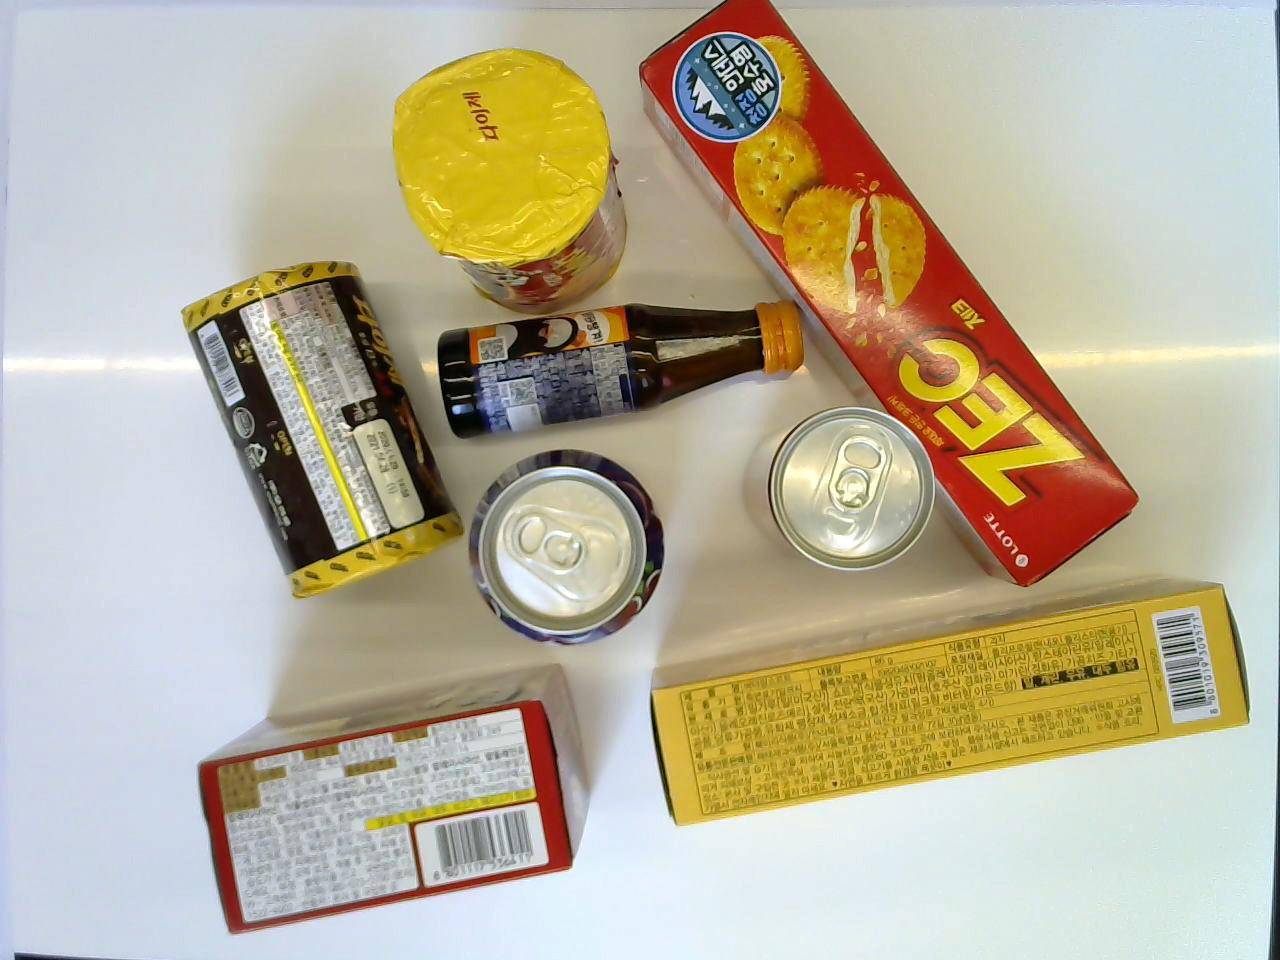buttering: (644, 575, 1250, 831)
chocopie: (197, 659, 596, 937)
coke: (742, 408, 936, 574)
diget_choco: (178, 254, 463, 603)
diget_ori: (390, 44, 630, 319)
vita500: (434, 296, 806, 444)
welchs: (464, 448, 666, 649)
zec: (638, 0, 1137, 588)
